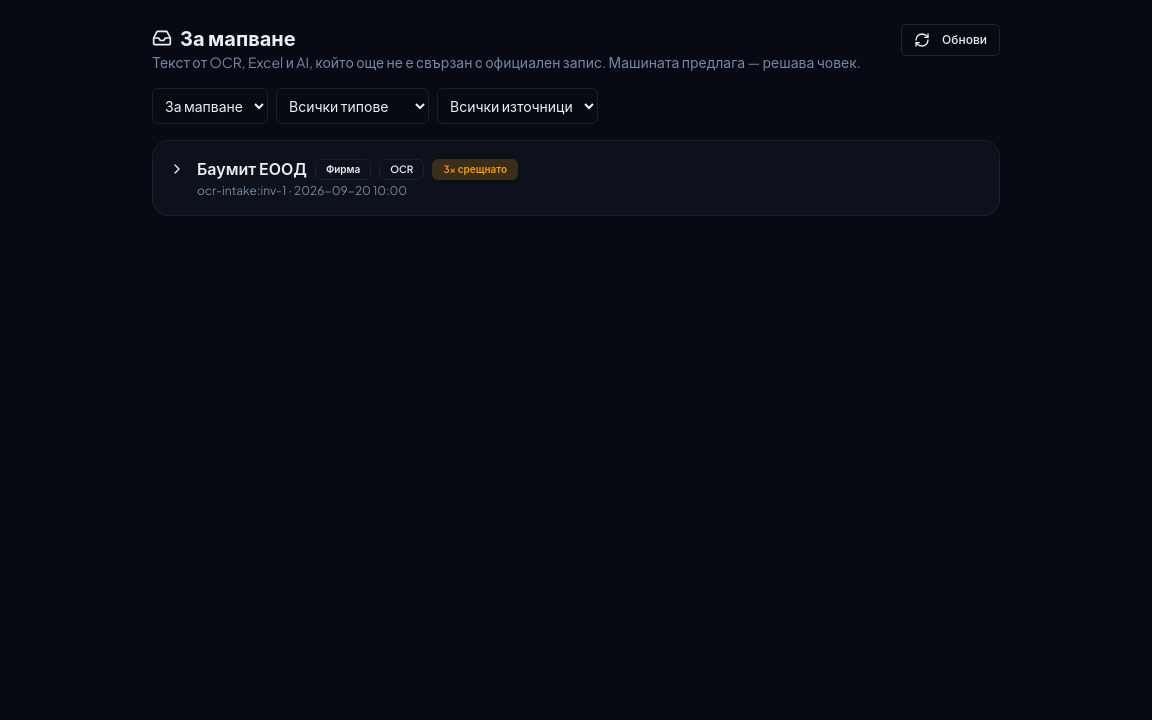
Test: the browser never sends a tenant of its own
Later steps or results of the test are not shown.
Click the button with test id "md-expand-p-1" at (252, 168), box [153,141,999,215]
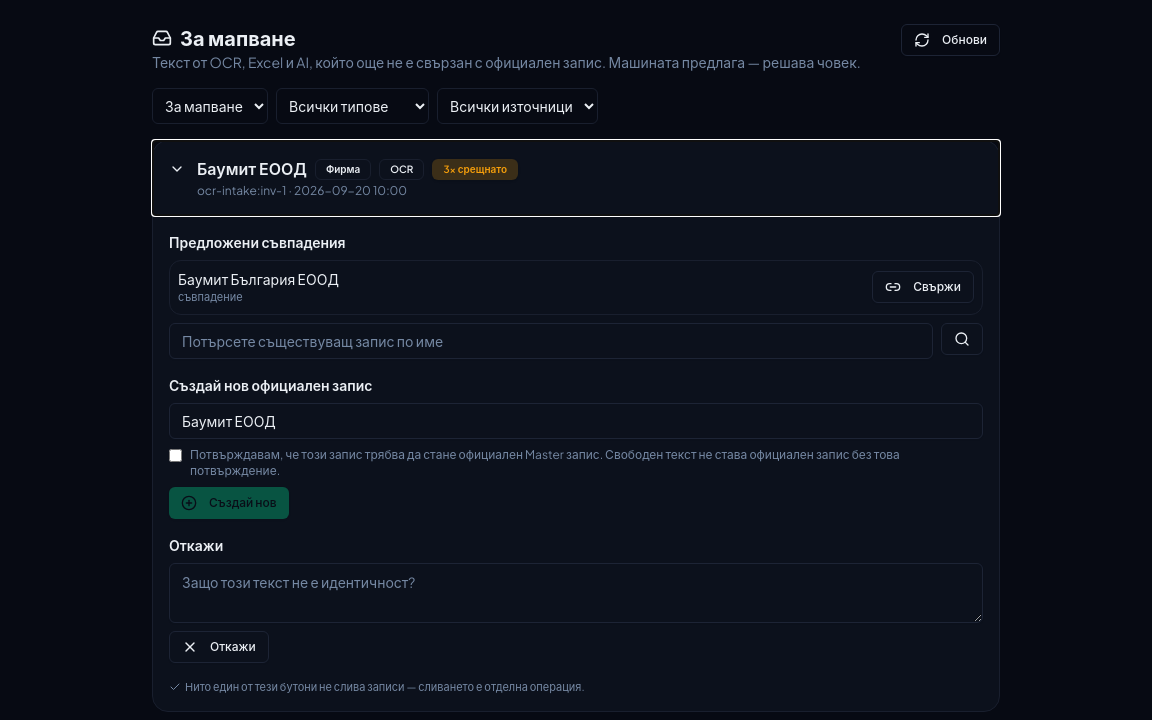
Expected: the list with test id "md-candidates" is shown, [169,260,983,314]
